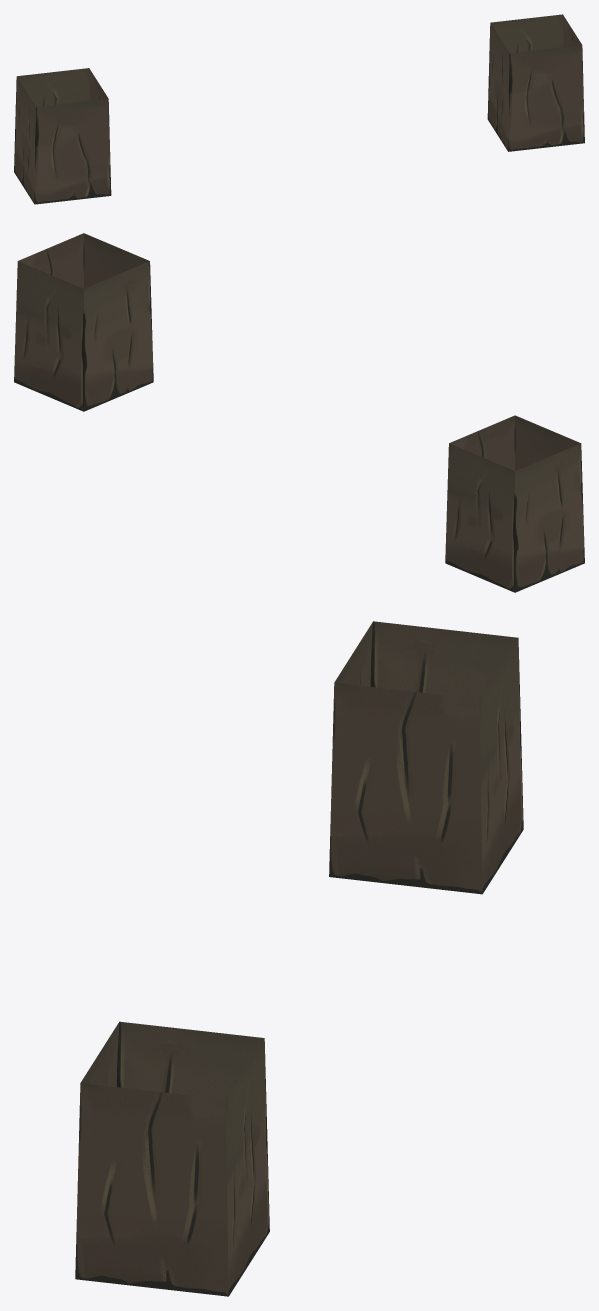
File: polysurface253_txt_ptitruc_0_lev1_lev3_lev2.glb
The picture shows the model from 3 angles, top to bottom: view 1: azimuth 30°, elevation 25°; view 2: azimuth 150°, elevation 25°; view 3: azimuth 270°, elevation 25°; orthographic projection. The views are drawn at different scales.
Visible parts, largest first — view 1: polysurface253_txt_ptitruc_0_lev1_lev3_lev2; view 2: polysurface253_txt_ptitruc_0_lev1_lev3_lev2; view 3: polysurface253_txt_ptitruc_0_lev1_lev3_lev2.
Boxes of the visible parts, x1,y1,x2,y2 form: polysurface253_txt_ptitruc_0_lev1_lev3_lev2: [14, 14, 584, 204]; polysurface253_txt_ptitruc_0_lev1_lev3_lev2: [14, 233, 584, 592]; polysurface253_txt_ptitruc_0_lev1_lev3_lev2: [75, 621, 523, 1296].
Size of the model in its own units: 29.08 by 5.48 by 11.42.
1 material, 1 textured.
